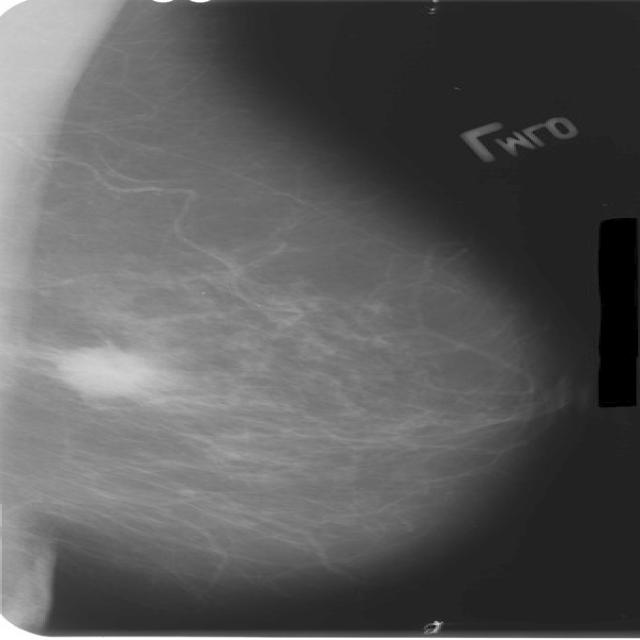tumour: (49, 346, 163, 398)
